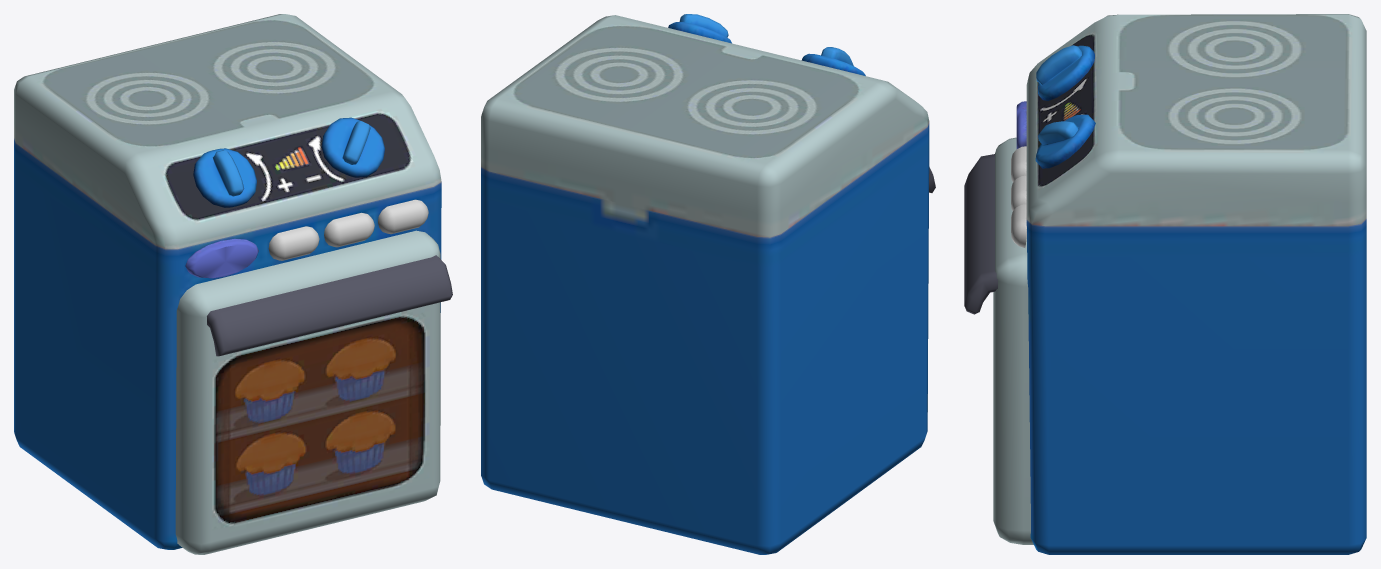
Rendered from 0-oven_blue.fbx.
3 renders of one model, left to right at view 1: azimuth 30°, elevation 25°; view 2: azimuth 150°, elevation 25°; view 3: azimuth 270°, elevation 25°, orthographic. The views are drawn at different scales.
Parts seen in each view (by area): view 1: 0-oven_blue; view 2: 0-oven_blue; view 3: 0-oven_blue.
Part boxes in pixels (<box>): 0-oven_blue: <box>14,14,452,554</box>; 0-oven_blue: <box>481,14,935,554</box>; 0-oven_blue: <box>964,14,1366,554</box>.
Size of the model in its own units: 76.15 by 95.84 by 85.94.
